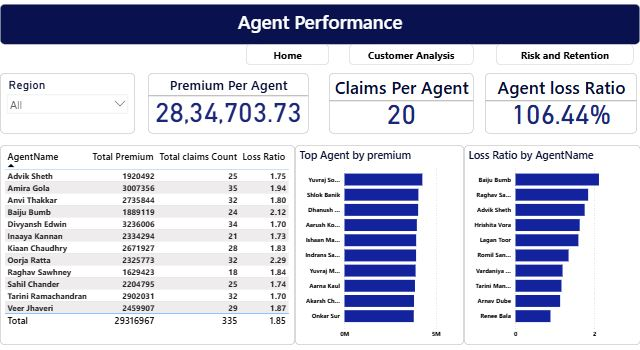

This screenshot's page, from the dashboard's own definition file:
{"tool":"powerbi","page":{"name":"Agent Performances","canvas":[1280,720],"ordinal":3},"visuals":[{"type":"tableEx","fields":{"Values":["Dim_Agent.AgentName","Fact_Premiums.Total Premium","Fact_Claims.Total claim Count","Fact_Premiums.Loss Ratio"]},"box":[0,295.6,589.6,399.8],"z":0},{"type":"clusteredBarChart","title":"Top Agent by premium","fields":{"Category":["Dim_Agent.AgentName"],"Y":["Fact_Premiums.Total Premium"]},"box":[589.6,295.6,337.6,399.8],"z":1000},{"type":"clusteredBarChart","fields":{"Category":["Dim_Agent.AgentName"],"Y":["Fact_Premiums.Loss Ratio"]},"box":[927.2,295.6,352.8,399.8],"z":2000},{"type":"card","title":"Agent loss Ratio","fields":{"Values":["Fact_Premiums.Loss Ratio"]},"box":[969.2,152.9,304,120.9],"z":3000},{"type":"card","title":"Claims Per Agent","fields":{"Values":["Fact_Policies.claims per agent"]},"box":[658.5,152.9,288.9,120.9],"z":4000},{"type":"card","title":"Premium Per  Agent","fields":{"Values":["Fact_Premiums.premium per agent"]},"box":[295.6,152.9,320.8,120.9],"z":5000},{"type":"textbox","box":[0,13.4,1280,80.6],"z":6000},{"type":"slicer","fields":{"Values":["Dim_Agent.Region"]},"box":[0,152.9,270.4,120.9],"z":7000},{"type":"actionButton","title":"Home","box":[492.2,94.1,166.3,42],"z":8000},{"type":"actionButton","title":"Home","box":[698.8,94.1,248.6,42],"z":9000},{"type":"actionButton","title":"Home","box":[992.8,94.1,275.5,42],"z":10000}]}

Visuals, with their boxes in screenshot pixels (x1, y1, x2, y2), scaled from the page's 1280x720 canvas onto the 640x350 screenshot:
tableEx - Dim_Agent.AgentName x Fact_Premiums.Total Premium: bbox=[0, 144, 295, 338]
"Top Agent by premium" clusteredBarChart: bbox=[295, 144, 464, 338]
clusteredBarChart - Dim_Agent.AgentName x Fact_Premiums.Loss Ratio: bbox=[464, 144, 639, 338]
"Agent loss Ratio" card: bbox=[485, 74, 637, 133]
"Claims Per Agent" card: bbox=[329, 74, 474, 133]
"Premium Per  Agent" card: bbox=[148, 74, 308, 133]
textbox: bbox=[0, 7, 639, 46]
slicer - Dim_Agent.Region: bbox=[0, 74, 135, 133]
"Home" actionButton: bbox=[246, 46, 329, 66]
"Home" actionButton: bbox=[349, 46, 474, 66]
"Home" actionButton: bbox=[496, 46, 634, 66]
